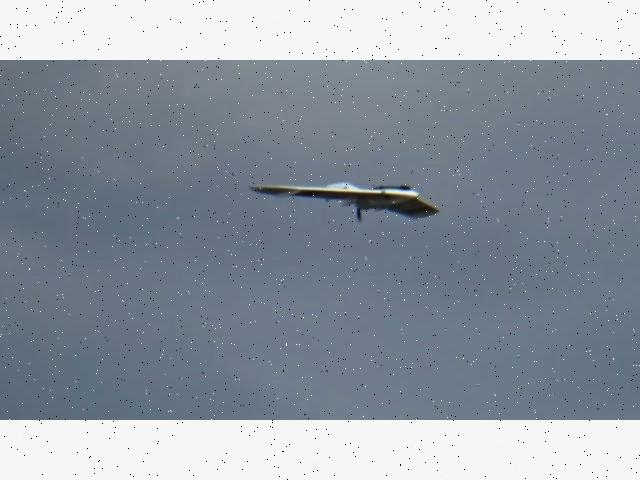Anti-Drone: (247, 179, 441, 223)
